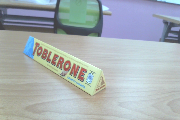Chocolate: (18, 33, 116, 102)
